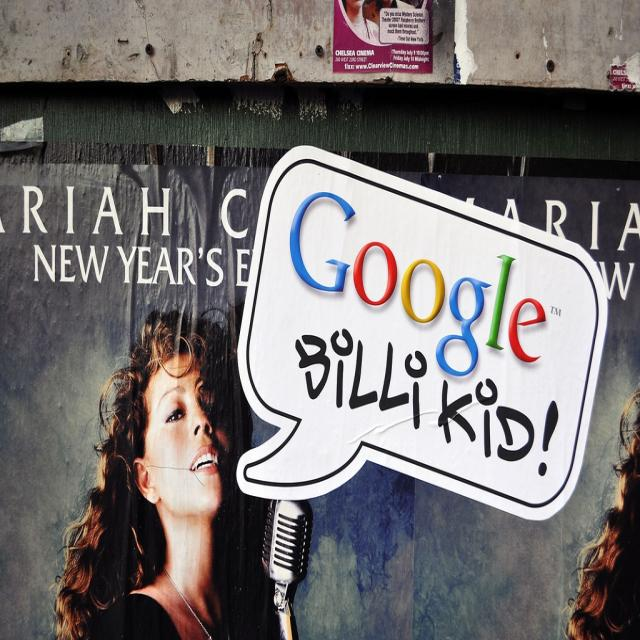google: (286, 183, 558, 385)
